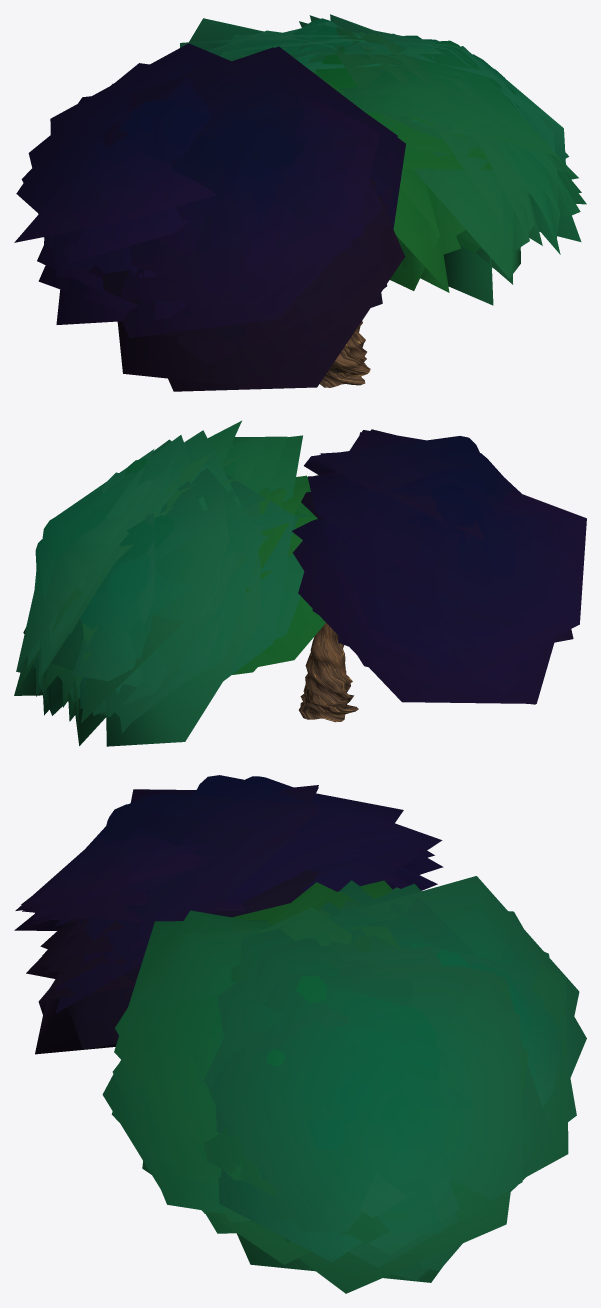
File: FantasyBush4.fbx
3 views of the same model, one above another, from view 1: azimuth 30°, elevation 25°; view 2: azimuth 150°, elevation 25°; view 3: azimuth 270°, elevation 25° (orthographic). The views are drawn at different scales.
Visible parts, largest first — view 1: fantasyleaf1_alpha_1, tree2_0; view 2: fantasyleaf1_alpha_1, tree2_0; view 3: fantasyleaf1_alpha_1.
Boxes of the visible parts, x1,y1,x2,y2 form: fantasyleaf1_alpha_1: (14,14,586,391); tree2_0: (320,321,370,387); fantasyleaf1_alpha_1: (14,420,586,746); tree2_0: (299,623,358,722); fantasyleaf1_alpha_1: (14,775,586,1293).
Size of the model in its own units: 423 by 222 by 334.
1 material, 1 textured.
